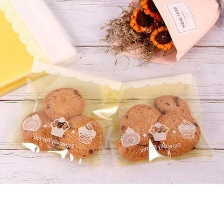snack: (6, 53, 129, 171), (93, 65, 221, 171)
